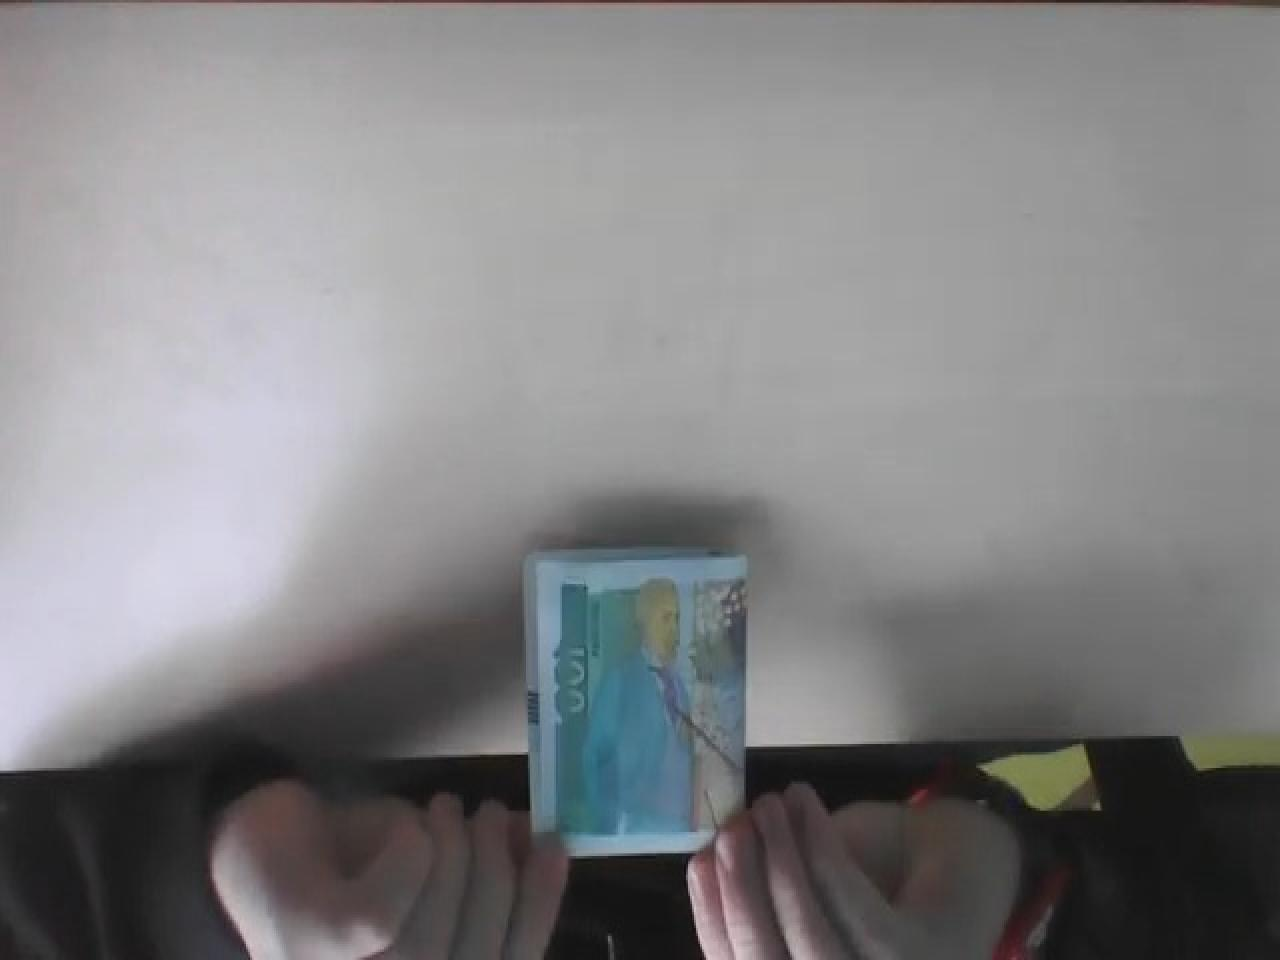100leva: (522, 538, 750, 856)
